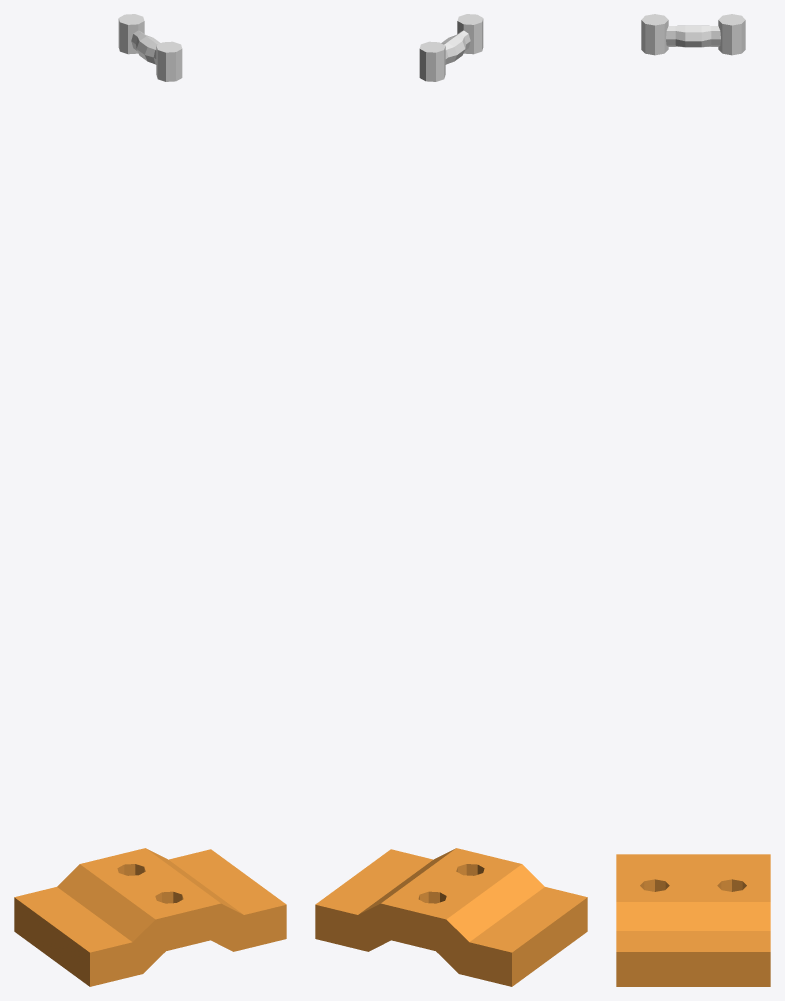
The model's file is MeshFence_Holder.fbx.
3 views of the same model, side by side, from view 1: azimuth 30°, elevation 25°; view 2: azimuth 150°, elevation 25°; view 3: azimuth 270°, elevation 25° (orthographic).
Parts seen in each view (by area): view 1: Cube; view 2: Cube; view 3: Cube.
Part boxes in pixels (<box>): Cube: <box>14,14,286,986</box>; Cube: <box>315,14,587,986</box>; Cube: <box>616,14,770,986</box>.
Size of the model in its own units: 60 by 263 by 40.
